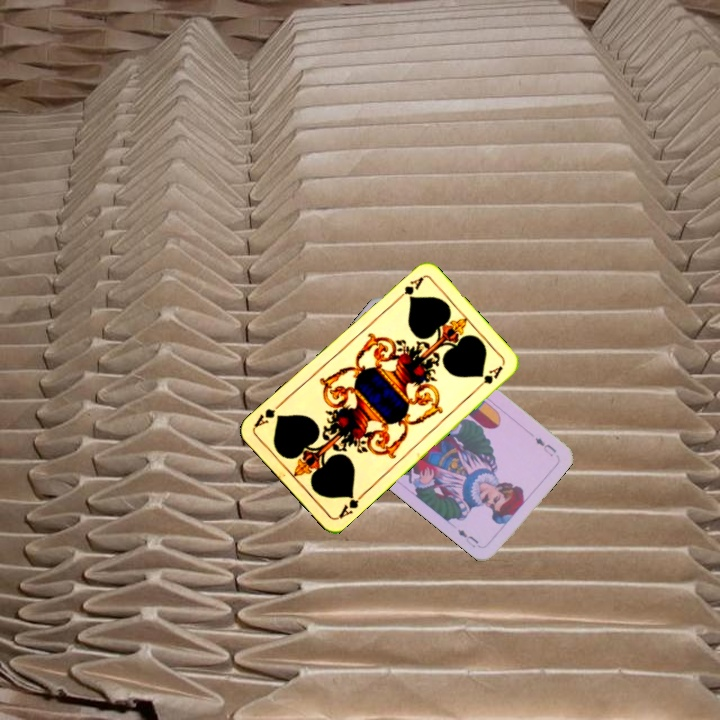EU: (531, 433, 559, 459)
GA: (334, 489, 367, 521), (392, 273, 426, 304)
